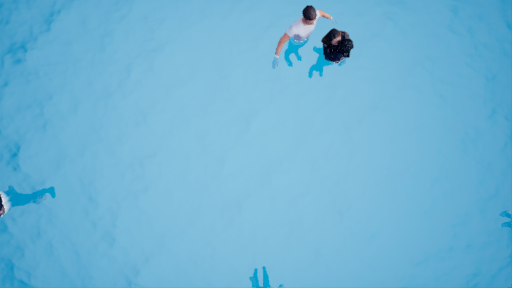person: (273, 5, 354, 80)
